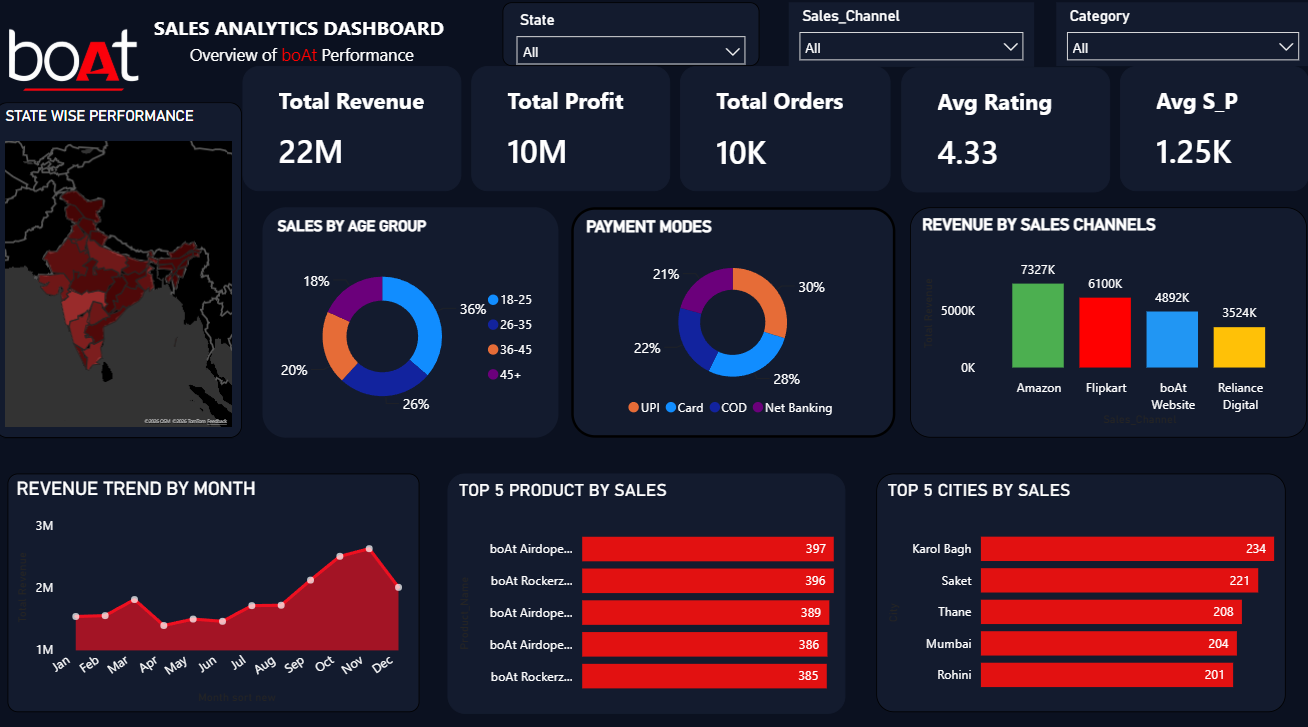

This screenshot's page, from the dashboard's own definition file:
{"tool":"powerbi","page":{"name":"Page 1","canvas":[1280,720],"ordinal":0},"visuals":[{"type":"cardVisual","title":"TOTAL REVENUE","fields":{"Data":["DateTable.Total Revenue"]},"box":[238.8,72.7,211.3,120.8],"z":0},{"type":"cardVisual","title":"TOTAL REVENUE","fields":{"Data":["DateTable.Avg Selling Price"]},"box":[1085.4,72.7,182.5,120.8],"z":1000},{"type":"cardVisual","title":"TOTAL REVENUE","fields":{"Data":["DateTable.Total Orders"]},"box":[661.4,72.7,203,121],"z":2000},{"type":"cardVisual","title":"TOTAL REVENUE","fields":{"Data":["DateTable.Avg Rating"]},"box":[874.1,74.1,201.7,120.8],"z":3000},{"type":"cardVisual","title":"TOTAL REVENUE","fields":{"Data":["DateTable.Total Profit"]},"box":[459.7,72.7,192.1,120.8],"z":4000},{"type":"slicer","fields":{"Values":["boat_sales_cleaned.State"]},"box":[489.9,11,248.4,61.7],"z":5000},{"type":"slicer","fields":{"Values":["boat_sales_cleaned.Sales_Channel"]},"box":[765.7,11,236.7,62.2],"z":6000},{"type":"slicer","fields":{"Values":["boat_sales_cleaned.Category"]},"box":[1023.7,11,244.3,61.7],"z":7000},{"type":"donutChart","title":"SALES BY AGE GROUP","fields":{"Category":["boat_sales_cleaned.Age_Group"],"Y":["DateTable.Total Orders"]},"box":[258,208.6,285.4,222.3],"z":8000},{"type":"donutChart","title":"PAYMENT MODES","fields":{"Category":["boat_sales_cleaned.Payment_Mode"],"Y":["DateTable.Total Orders"]},"box":[555.7,208.6,312.9,222.3],"z":9000},{"type":"clusteredColumnChart","title":"REVENUE BY SALES CHANNELS","fields":{"Category":["boat_sales_cleaned.Sales_Channel"],"Y":["DateTable.Total Revenue"]},"box":[883.7,208.6,382.8,222.3],"z":10000},{"type":"clusteredBarChart","title":"TOP 5 PRODUCT BY SALES  ","fields":{"Category":["boat_sales_cleaned.Product_Name"],"Y":["DateTable.Total Orders"]},"box":[436.4,465.2,384.2,231.9],"z":11000},{"type":"image","box":[0,0,148.2,133.1],"z":12000},{"type":"textbox","box":[148.2,0,341.7,107],"z":13000},{"type":"clusteredBarChart","title":"TOP 5 CITIES BY SALES","fields":{"Category":["boat_sales_cleaned.City"],"Y":["DateTable.Total Orders"]},"box":[850.8,465.2,395.2,230.5],"z":14000},{"type":"areaChart","title":"REVENUE TREND BY MONTH","fields":{"Category":["DateTable.Month sort new"],"Y":["DateTable.Total Revenue"]},"box":[12.3,465.2,397.9,230.5],"z":15000},{"type":"azureMap","title":"STATE WISE PERFORMANCE","fields":{"Category":["boat_sales_cleaned.State"]},"box":[0,107,238.8,323.8],"z":16000}]}

Visuals, with their boxes in screenshot pixels (x1, y1, x2, y2), scaled from the page's 1280x720 canvas onto the 1308x727 screenshot:
"TOTAL REVENUE" cardVisual: 244 73 460 195
"TOTAL REVENUE" cardVisual: 1109 73 1296 195
"TOTAL REVENUE" cardVisual: 676 73 883 196
"TOTAL REVENUE" cardVisual: 893 75 1099 197
"TOTAL REVENUE" cardVisual: 470 73 666 195
slicer - boat_sales_cleaned.State: 501 11 754 73
slicer - boat_sales_cleaned.Sales_Channel: 782 11 1024 74
slicer - boat_sales_cleaned.Category: 1046 11 1296 73
"SALES BY AGE GROUP" donutChart: 264 211 555 435
"PAYMENT MODES" donutChart: 568 211 888 435
"REVENUE BY SALES CHANNELS" clusteredColumnChart: 903 211 1294 435
"TOP 5 PRODUCT BY SALES  " clusteredBarChart: 446 470 839 704
image: 0 0 151 134
textbox: 151 0 501 108
"TOP 5 CITIES BY SALES" clusteredBarChart: 869 470 1273 702
"REVENUE TREND BY MONTH" areaChart: 13 470 419 702
"STATE WISE PERFORMANCE" azureMap: 0 108 244 435
